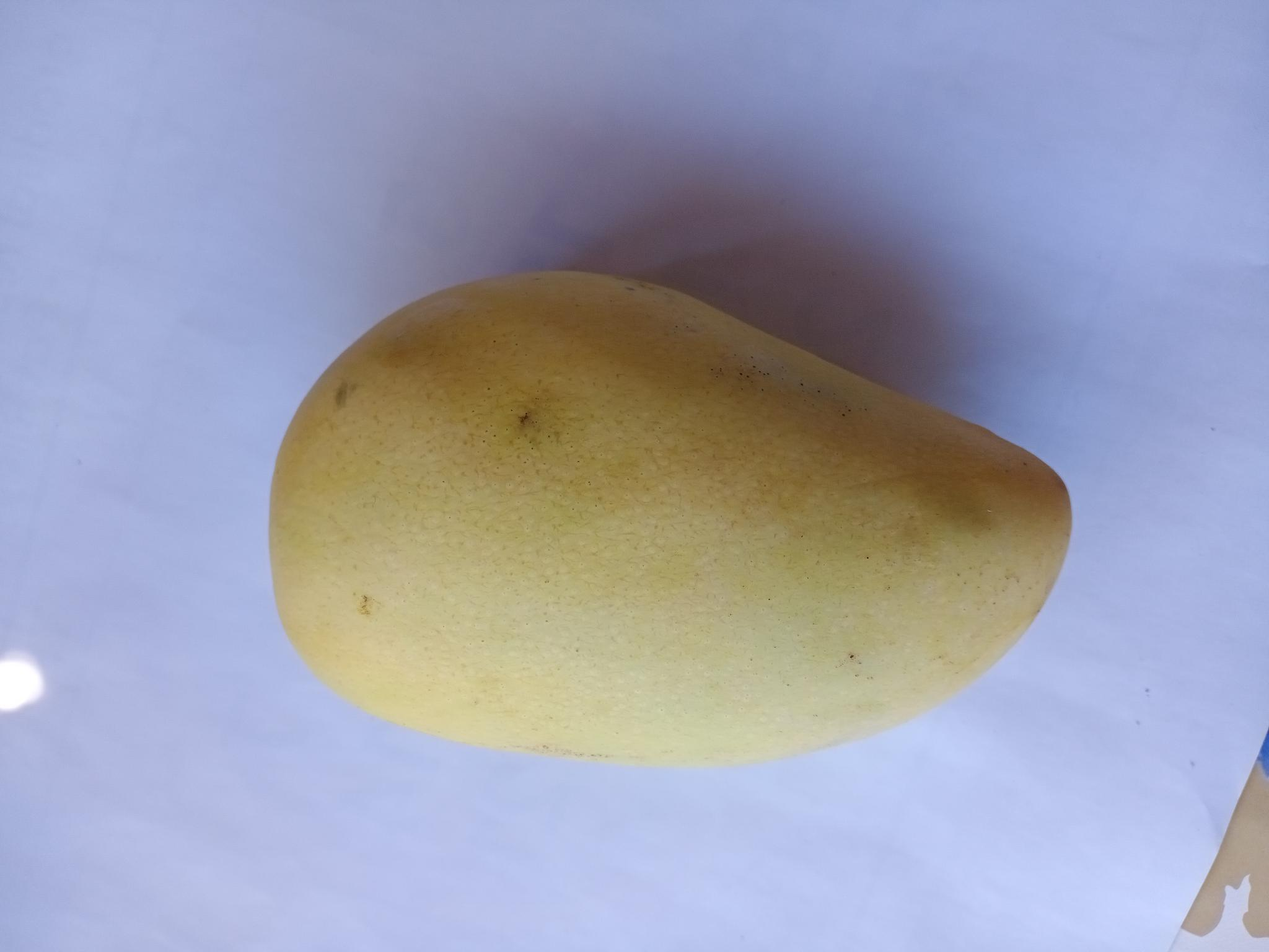Mango Ripe: (215, 243, 1112, 821)
